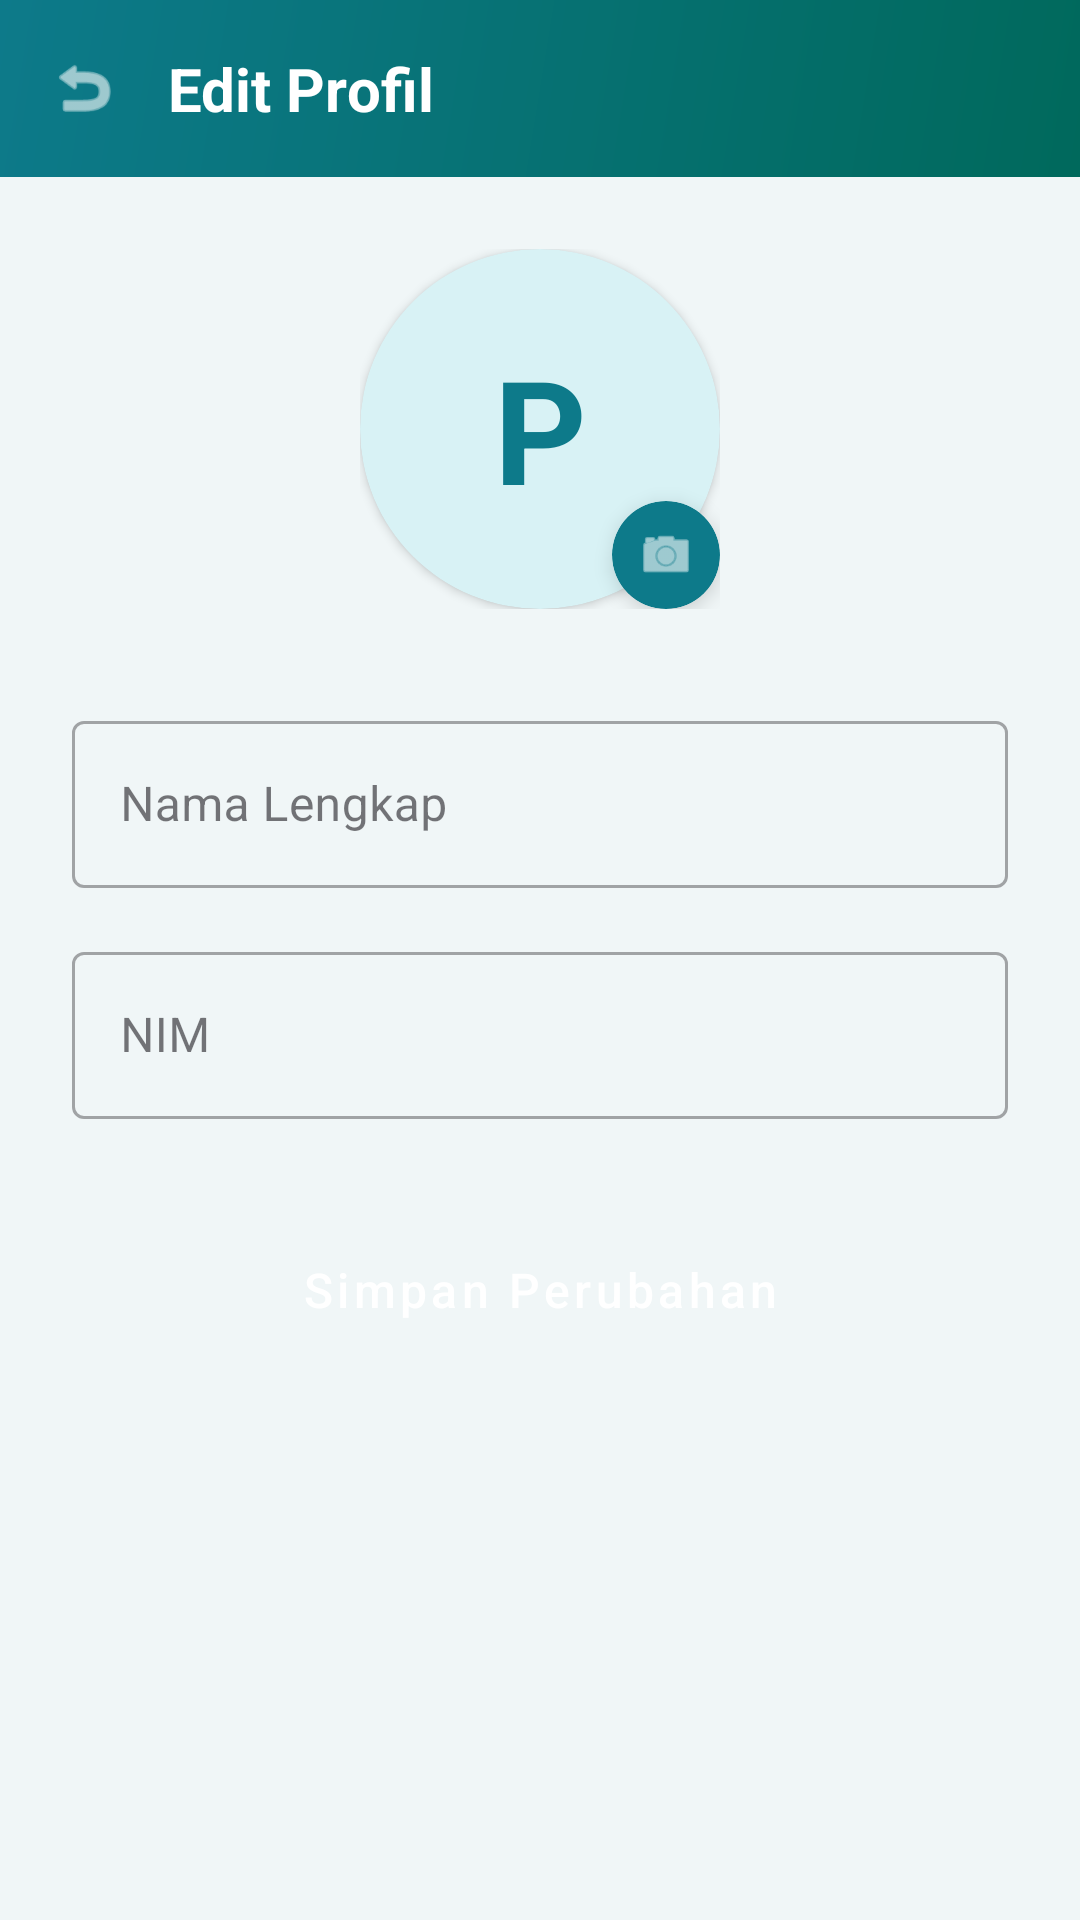

Icons on this 1080 x 1920 Android screen, each with the point to tap as [x,y]:
camera: [666,554]
revert: [85,88]
